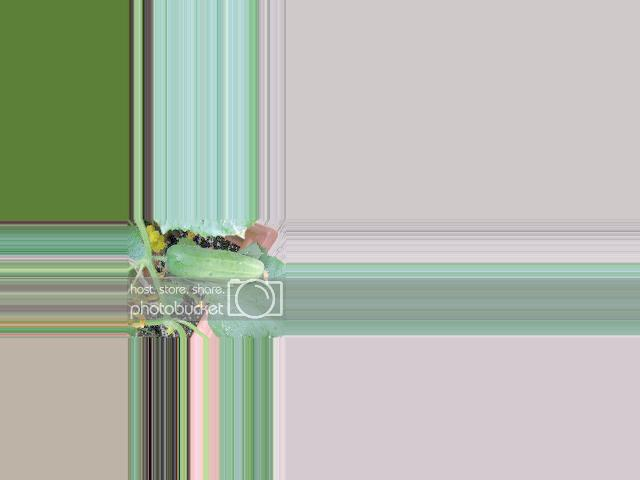cucumber: (167, 244, 265, 284)
